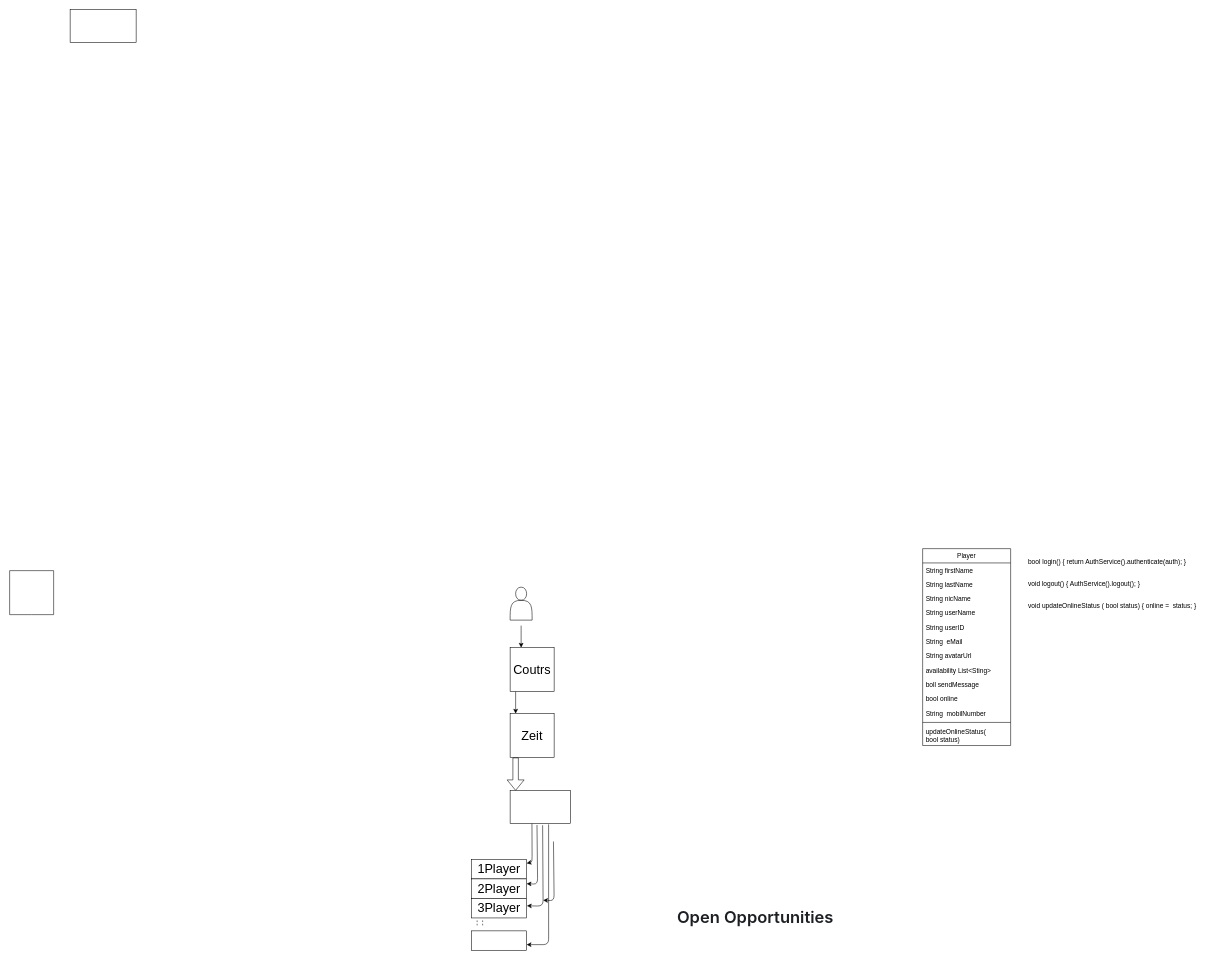
Some shapes in this 1218 by 960 pixel diagram are drawn without their labels. Here are the shapes that lost their labels. From the top down, the centre of each, then its label:
At point (103, 26): "Authentification".
At point (540, 807): "Game".
At point (499, 940): "n. Player".
